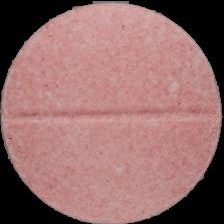68788-0118: (0, 0, 224, 224)
